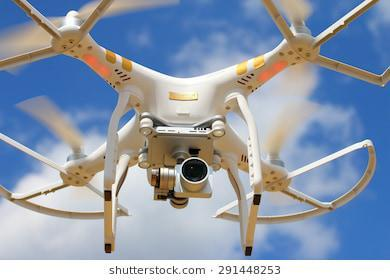drone: (0, 7, 390, 258)
